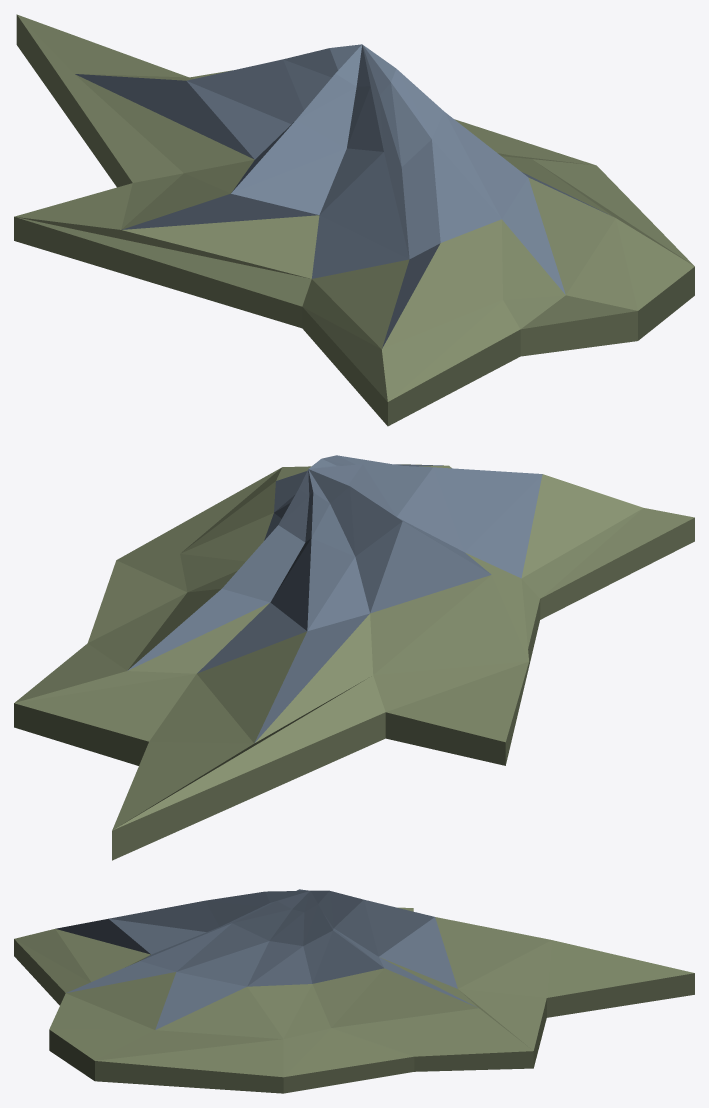
The model's file is massif_blue_buttress.glb.
3 views of the same model, one above another, from view 1: azimuth 30°, elevation 25°; view 2: azimuth 150°, elevation 25°; view 3: azimuth 270°, elevation 25° (orthographic). The views are drawn at different scales.
Visible parts, largest first — view 1: massif_blue_buttress; view 2: massif_blue_buttress; view 3: massif_blue_buttress.
Boxes of the visible parts, left/top/right/bottom form: massif_blue_buttress: left=14, top=14, right=694, bottom=426; massif_blue_buttress: left=14, top=455, right=694, bottom=860; massif_blue_buttress: left=14, top=889, right=694, bottom=1093.
Size of the model in its own units: 272 by 96.83 by 464.
